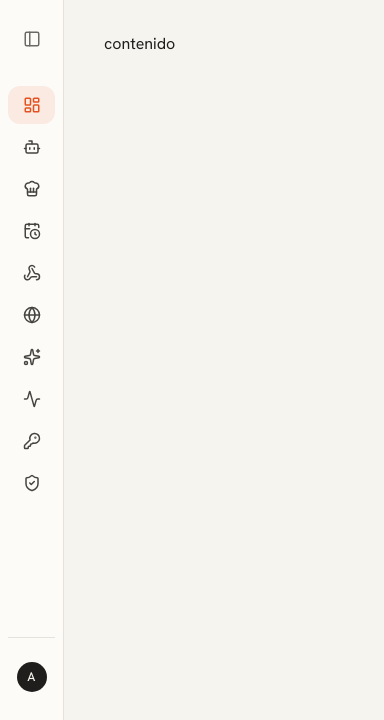
Test: AppLayout (colapso del sidebar) › el toggle expande el sidebar y permite volver a colapsarlo
What coordinates should you click on to do the following:
click the button named "Expandir panel"
I would click on:
 (32, 39)
Its box is top-left (16, 24), bottom-right (46, 54).
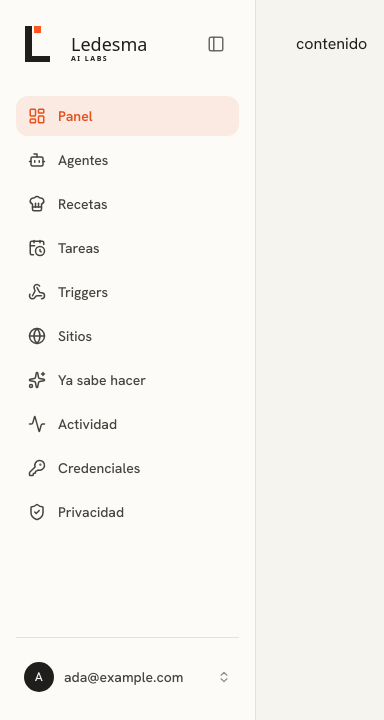
Expected: the button named "Colapsar panel" is expanded
Expected: the link "Panel" is shown, top-left (16, 96), bottom-right (239, 136)
What coordinates should you click on to do the following:
click the button named "Colapsar panel"
I would click on:
 (216, 44)
Its box is top-left (201, 29), bottom-right (231, 59).
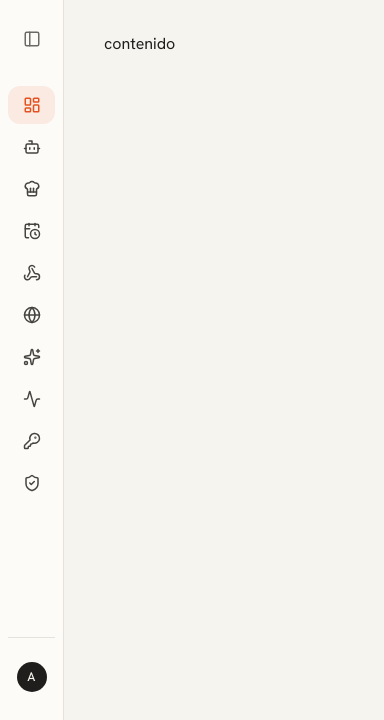
Expected: the button named "Expandir panel" is shown, top-left (16, 24), bottom-right (46, 54)
